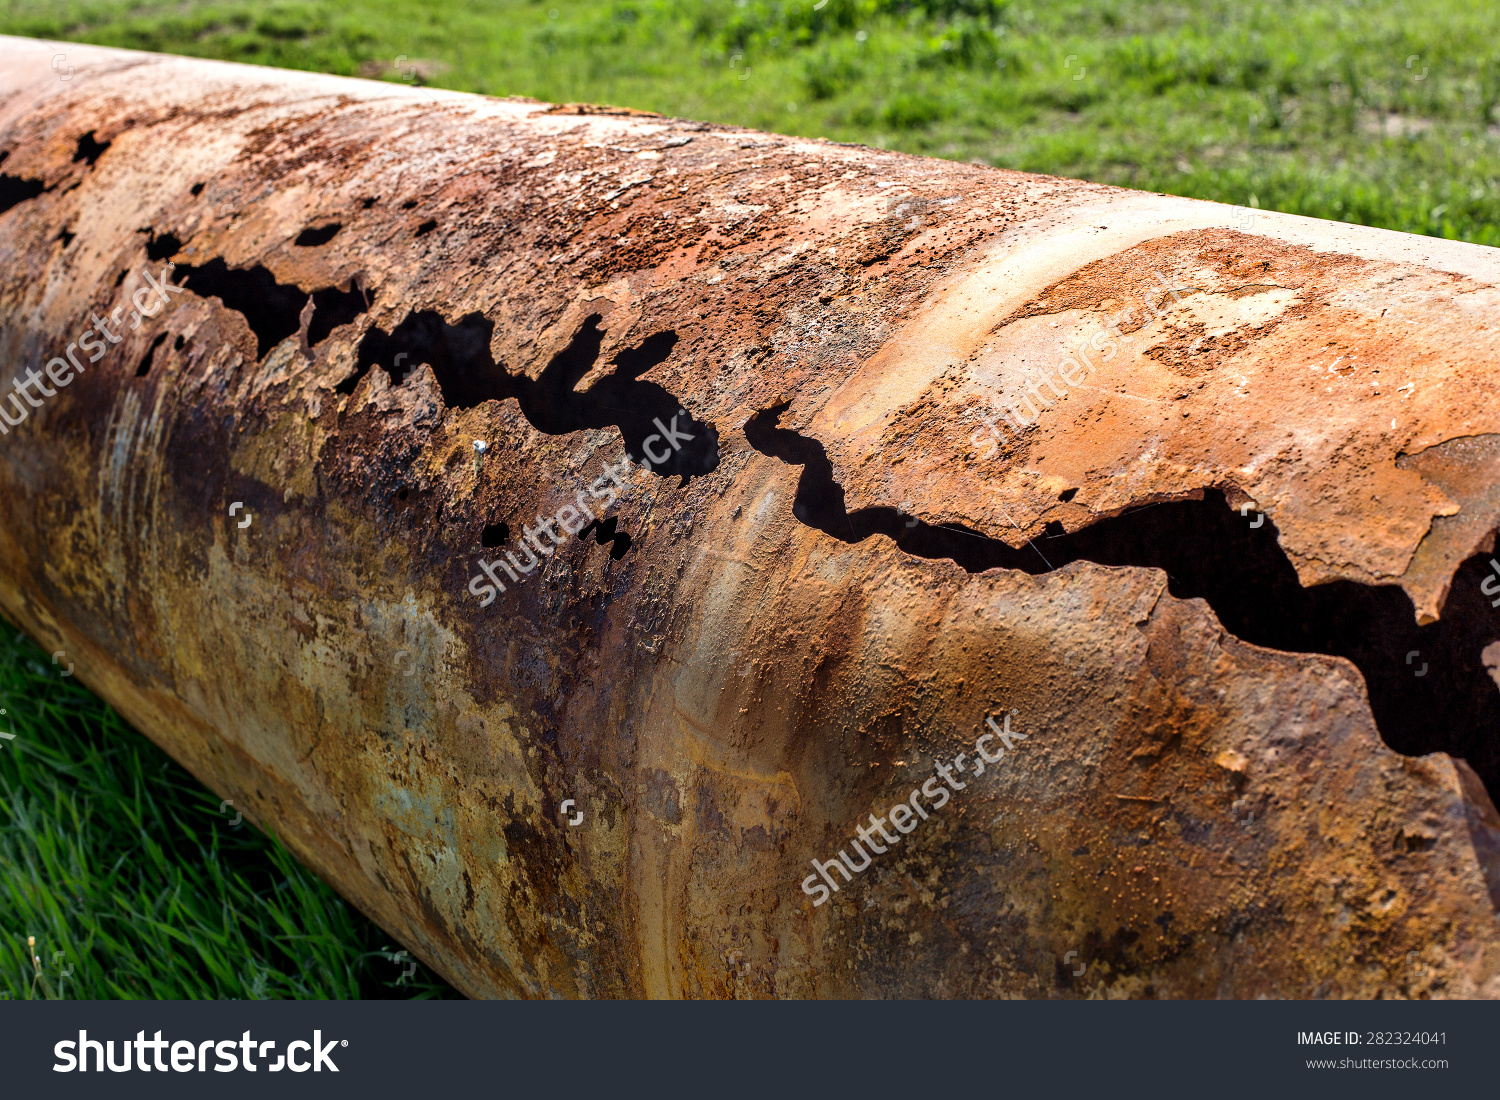rust: (1069, 226, 1479, 597), (307, 100, 811, 384)
